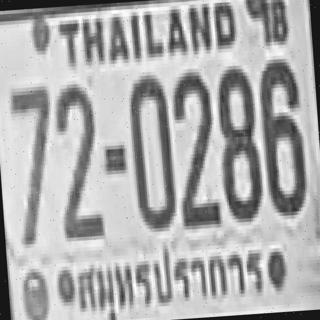N00: (126, 72, 175, 228)
N02: (170, 67, 220, 226), (52, 79, 102, 238)
N06: (257, 54, 306, 213)
N07: (8, 82, 58, 245)
N08: (213, 61, 262, 220)
P57: (73, 242, 270, 320)
